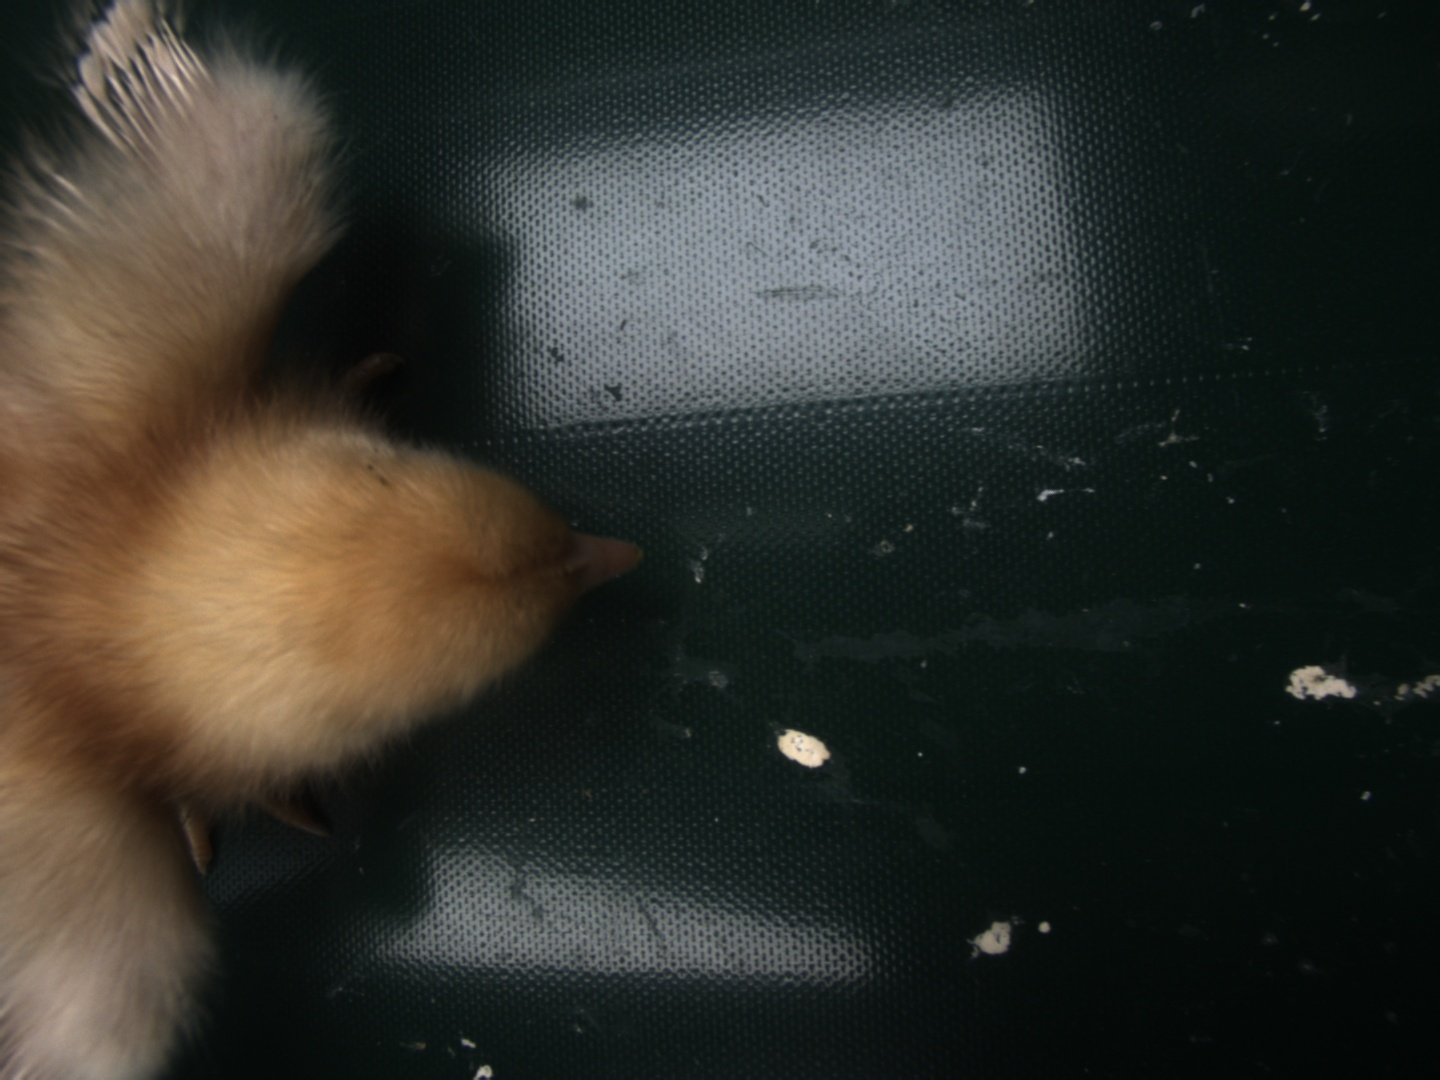female: (65, 2, 217, 157)
